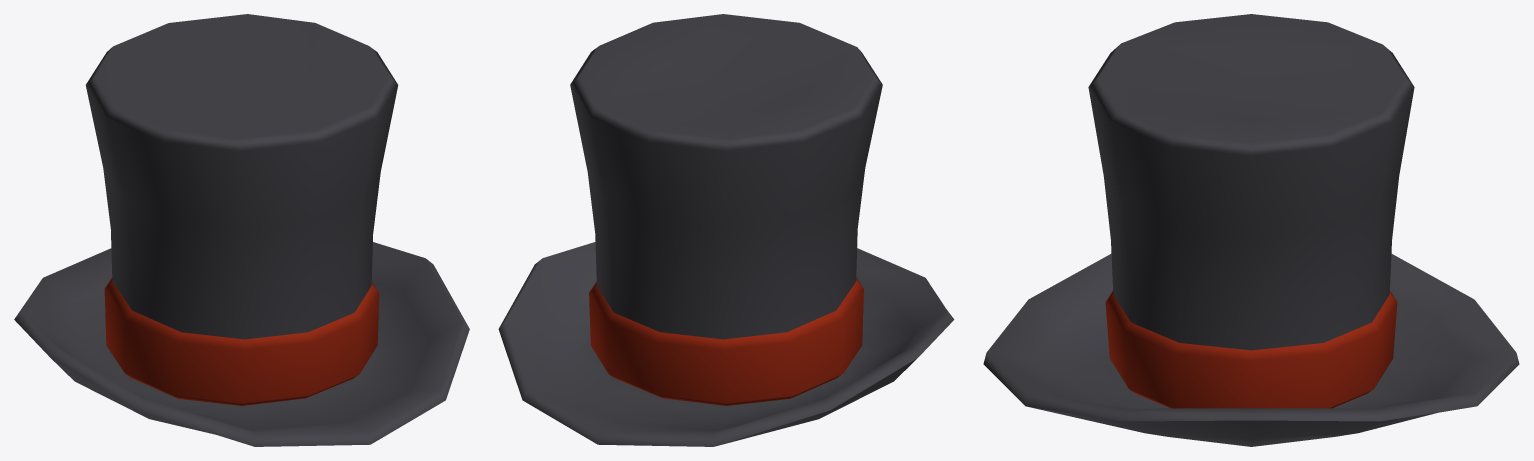
Rendered from Top_Hat.fbx.
3 renders of one model, left to right at view 1: azimuth 30°, elevation 25°; view 2: azimuth 150°, elevation 25°; view 3: azimuth 270°, elevation 25°, orthographic. The views are drawn at different scales.
Visible parts, largest first — view 1: Top_Hat; view 2: Top_Hat; view 3: Top_Hat.
Boxes of the visible parts, x1,y1,x2,y2 form: Top_Hat: (14, 14, 469, 446); Top_Hat: (498, 14, 954, 446); Top_Hat: (983, 14, 1519, 446).
Size of the model in its own units: 21.06 by 15.17 by 24.47.
